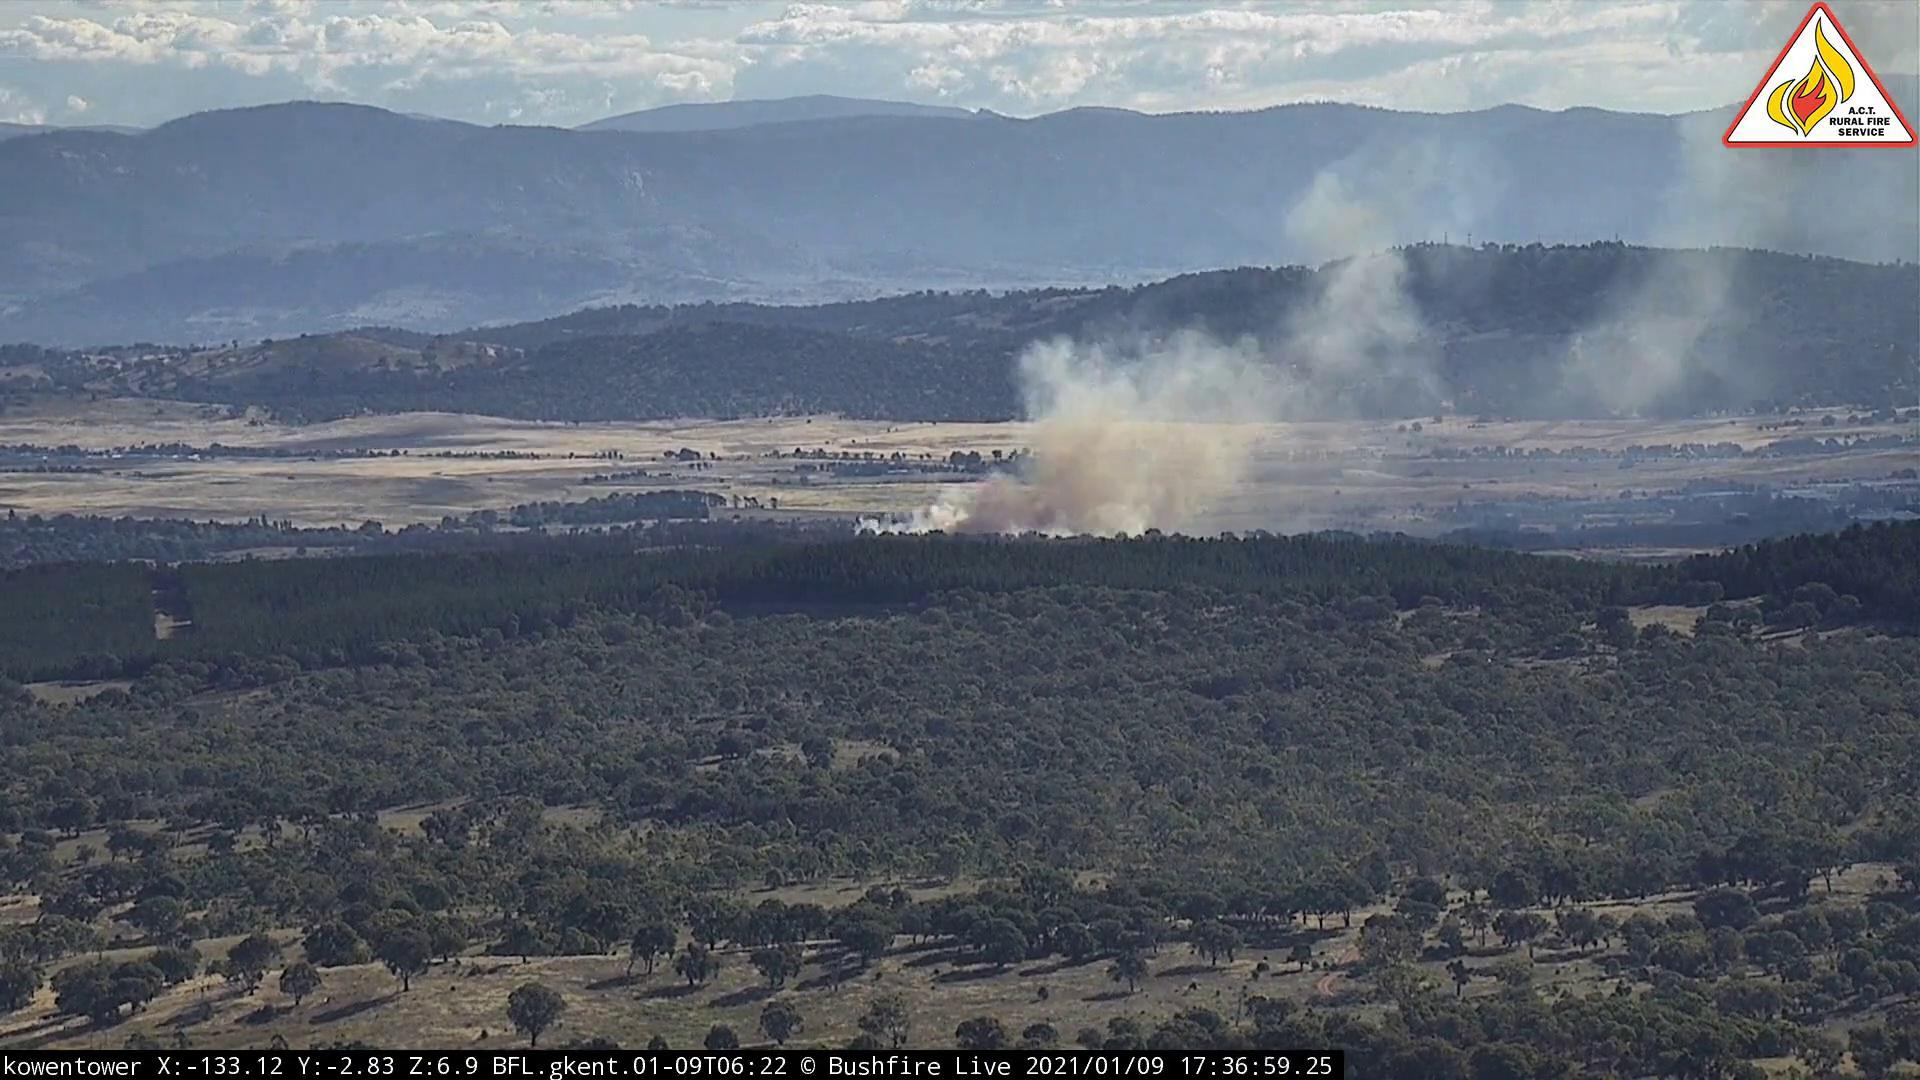Smoke: (855, 109, 1720, 545)
